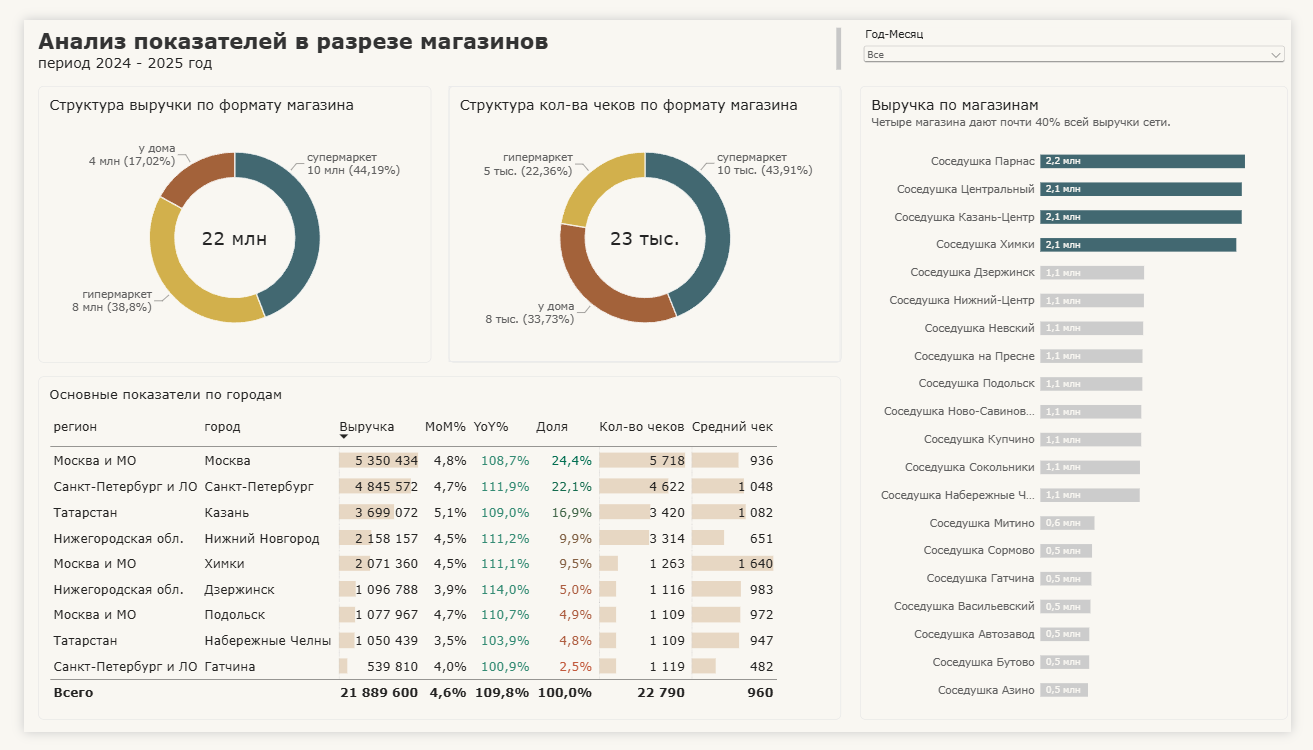

What the dashboard file says about the page in this screenshot:
{"tool":"powerbi","page":{"name":"Магазины и Города","canvas":[1920,1080],"ordinal":2},"visuals":[{"type":"tableEx","title":"Основные показатели по городам","fields":{"Values":["dim_stores.регион","dim_stores.город","fact_sales.Revenue","fact_sales.MoM%","fact_sales.YoY%","fact_sales.Доля от общего","fact_sales.Кол-во чеков","fact_sales.Средний чек"]},"box":[21.7,540,1216.7,520],"z":0},{"type":"slicer","title":"Выбери регион","fields":{"Values":["dim_calend.Год-Месяц"]},"box":[1266.7,11.7,648.3,71.7],"z":1000},{"type":"donutChart","title":"Структура выручки по формату магазина","fields":{"Y":["fact_sales.Revenue"],"Category":["dim_stores.формат_магазина"]},"box":[21.7,100,595,419],"z":2000},{"type":"donutChart","title":"Структура кол-ва чеков по формату магазина","fields":{"Category":["dim_stores.формат_магазина"],"Y":["fact_sales.Кол-во чеков"]},"box":[643.3,100,595,419],"z":3000},{"type":"clusteredBarChart","title":"Выручка по магазинам","fields":{"Category":["dim_stores.наименование_магазина"],"Y":["fact_sales.Revenue"]},"box":[1266.7,100,648.3,960],"z":4000},{"type":"textbox","box":[136.7,11.7,1101.7,71.7],"z":5000},{"type":"actionButton","box":[21.7,11.7,100,40],"z":6000},{"type":"actionButton","box":[21.8,11.8,100,40],"z":7000}]}

Visuals, with their boxes in screenshot pixels (x1, y1, x2, y2), scaled from the page's 1920x1080 canvas onto the 1313x750 screenshot:
"Основные показатели по городам" tableEx: pyautogui.locateOnScreen(15, 375, 847, 736)
"Выбери регион" slicer: pyautogui.locateOnScreen(866, 8, 1310, 58)
"Структура выручки по формату магазина" donutChart: pyautogui.locateOnScreen(15, 69, 422, 360)
"Структура кол-ва чеков по формату магазина" donutChart: pyautogui.locateOnScreen(440, 69, 847, 360)
"Выручка по магазинам" clusteredBarChart: pyautogui.locateOnScreen(866, 69, 1310, 736)
textbox: pyautogui.locateOnScreen(93, 8, 847, 58)
actionButton: pyautogui.locateOnScreen(15, 8, 83, 36)
actionButton: pyautogui.locateOnScreen(15, 8, 83, 36)
